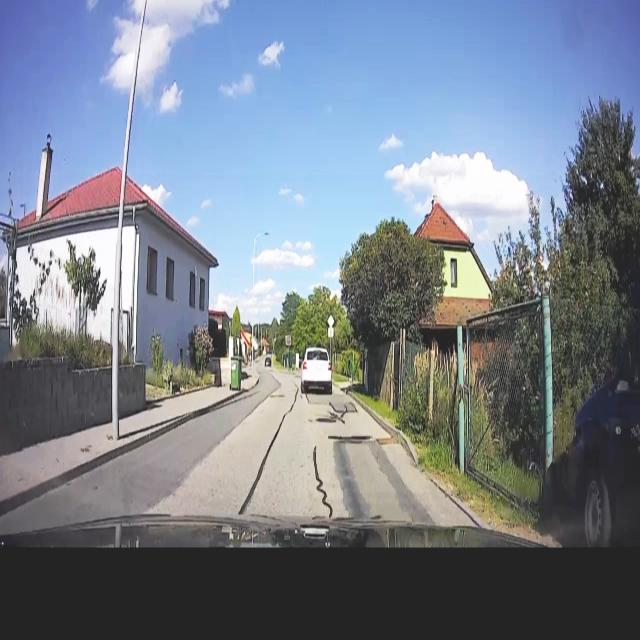Priority road: (326, 315, 336, 328)
